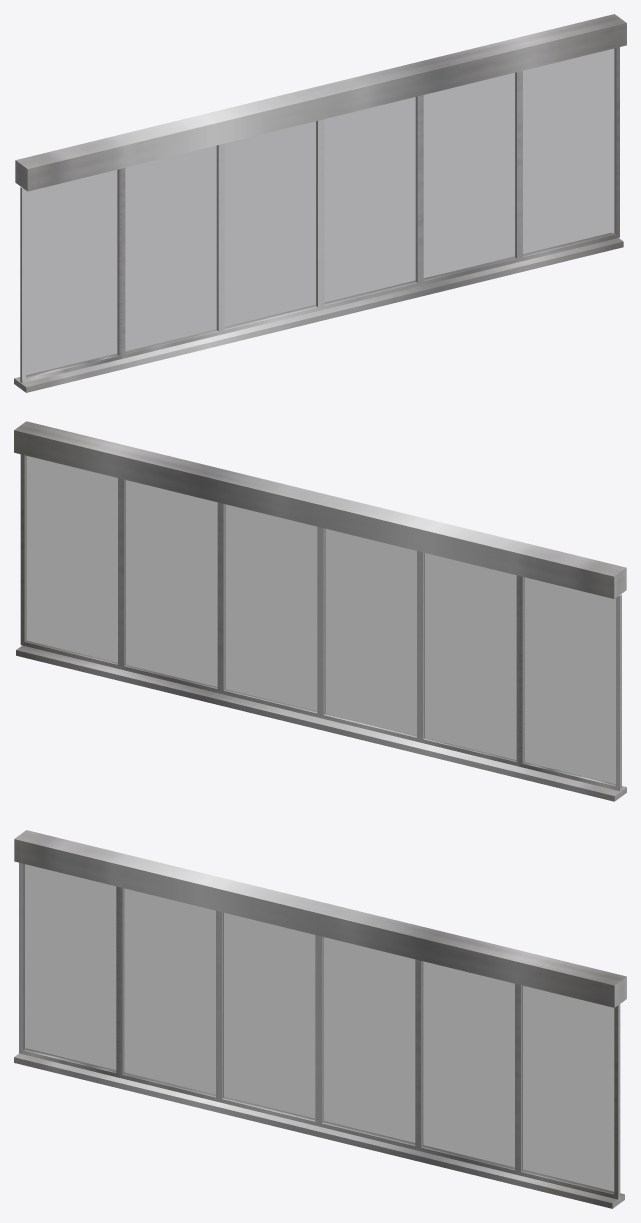
Rendered from Automatic Teloscopic Doors.fbx.
3 views of the same model, one above another, from view 1: azimuth 30°, elevation 25°; view 2: azimuth 150°, elevation 25°; view 3: azimuth 330°, elevation 25° (orthographic).
Parts seen in each view (by area): view 1: pCube5 (×6), pCube9, pCube6 (×6); view 2: pCube5 (×6), pCube9, pCube6 (×6); view 3: pCube5 (×6), pCube9, pCube6 (×6).
Boxes of the visible parts, bbox=[...] form: pCube5 (×6): bbox=[26, 48, 615, 377]; pCube9: bbox=[14, 14, 626, 392]; pCube6 (×6): bbox=[20, 47, 619, 383]; pCube5 (×6): bbox=[25, 455, 615, 785]; pCube9: bbox=[14, 421, 626, 801]; pCube6 (×6): bbox=[20, 454, 621, 791]; pCube5 (×6): bbox=[23, 864, 614, 1193]; pCube9: bbox=[14, 830, 626, 1208]; pCube6 (×6): bbox=[19, 862, 620, 1199].
Bounding box in the file's own units: 28.28 × 10.09 × 1.05.
Materials: 2 (1 with a texture image).
